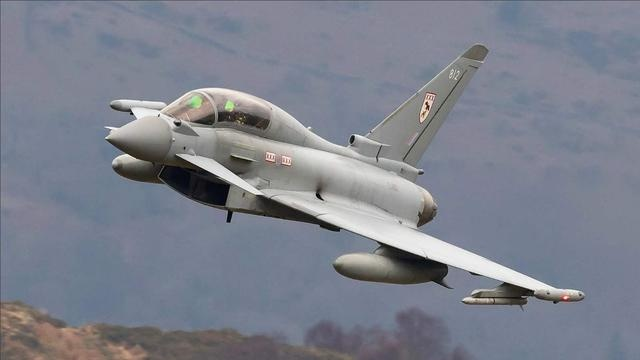airplane: (98, 42, 590, 309)
